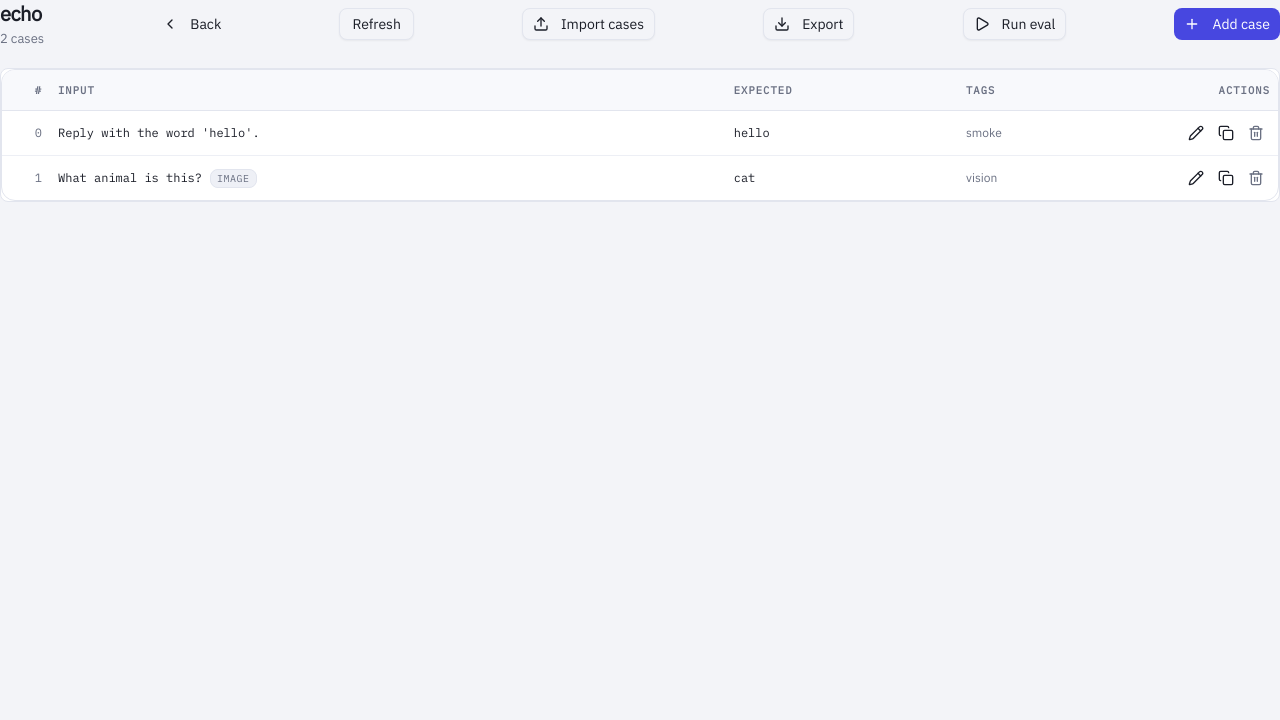
it: DatasetDetailPage › 'Run eval' opens the dialog and runs nothing until asked (1.89.0)
Click the button "Run eval" at (1014, 24), box [962, 8, 1066, 40]
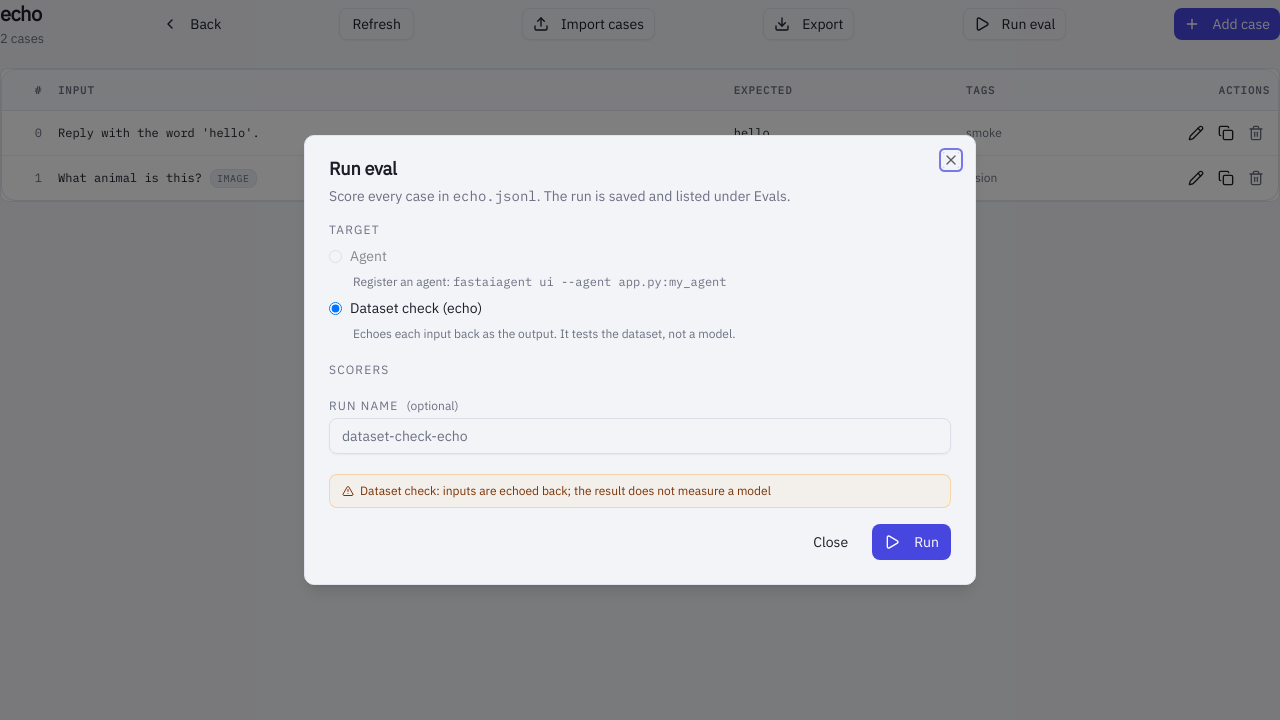
Result: the heading "Run eval" is shown at [329, 157, 397, 180]
Result: the radio button labelled "Dataset check (echo)" is checked at [329, 302, 342, 314]
